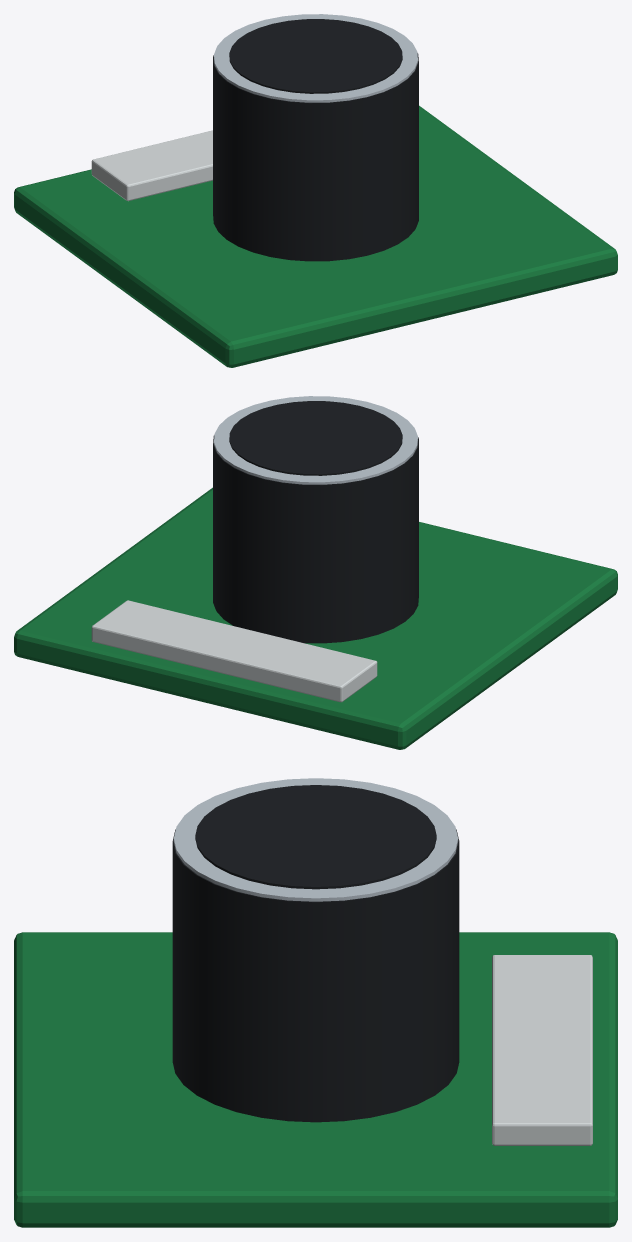
Rendered from camera_module_3.glb.
3 renders of one model, top to bottom at view 1: azimuth 30°, elevation 25°; view 2: azimuth 150°, elevation 25°; view 3: azimuth 270°, elevation 25°, orthographic. The views are drawn at different scales.
Parts seen in each view (by area): view 1: part_camera_module_3__pcb, part_camera_module_3__black_polymer, part_camera_module_3__polymer, part_camera_module_3__steel; view 2: part_camera_module_3__pcb, part_camera_module_3__black_polymer, part_camera_module_3__polymer, part_camera_module_3__steel; view 3: part_camera_module_3__pcb, part_camera_module_3__black_polymer, part_camera_module_3__polymer, part_camera_module_3__steel.
Boxes of the visible parts, bbox=[...] form: part_camera_module_3__pcb: bbox=[14, 105, 617, 367]; part_camera_module_3__black_polymer: bbox=[213, 19, 418, 261]; part_camera_module_3__polymer: bbox=[91, 130, 212, 201]; part_camera_module_3__steel: bbox=[214, 14, 417, 102]; part_camera_module_3__pcb: bbox=[14, 487, 617, 749]; part_camera_module_3__black_polymer: bbox=[213, 401, 418, 643]; part_camera_module_3__polymer: bbox=[91, 600, 377, 702]; part_camera_module_3__steel: bbox=[214, 396, 417, 484]; part_camera_module_3__pcb: bbox=[14, 932, 617, 1227]; part_camera_module_3__black_polymer: bbox=[172, 785, 459, 1122]; part_camera_module_3__polymer: bbox=[492, 955, 592, 1145]; part_camera_module_3__steel: bbox=[173, 778, 458, 901].
Size of the model in its own units: 0.025 by 0.0115 by 0.024.
